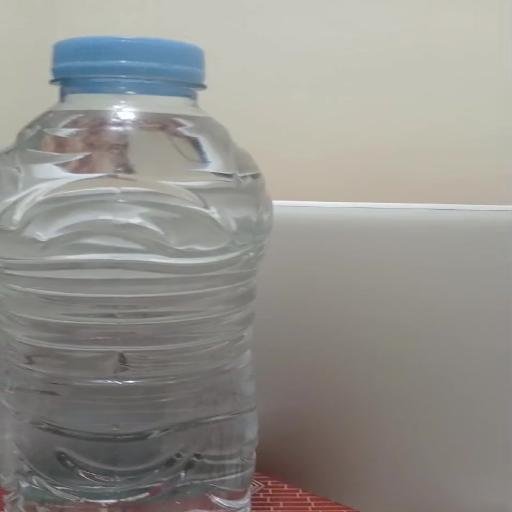bouteille non conformite: (22, 42, 294, 512), (0, 246, 298, 398)
